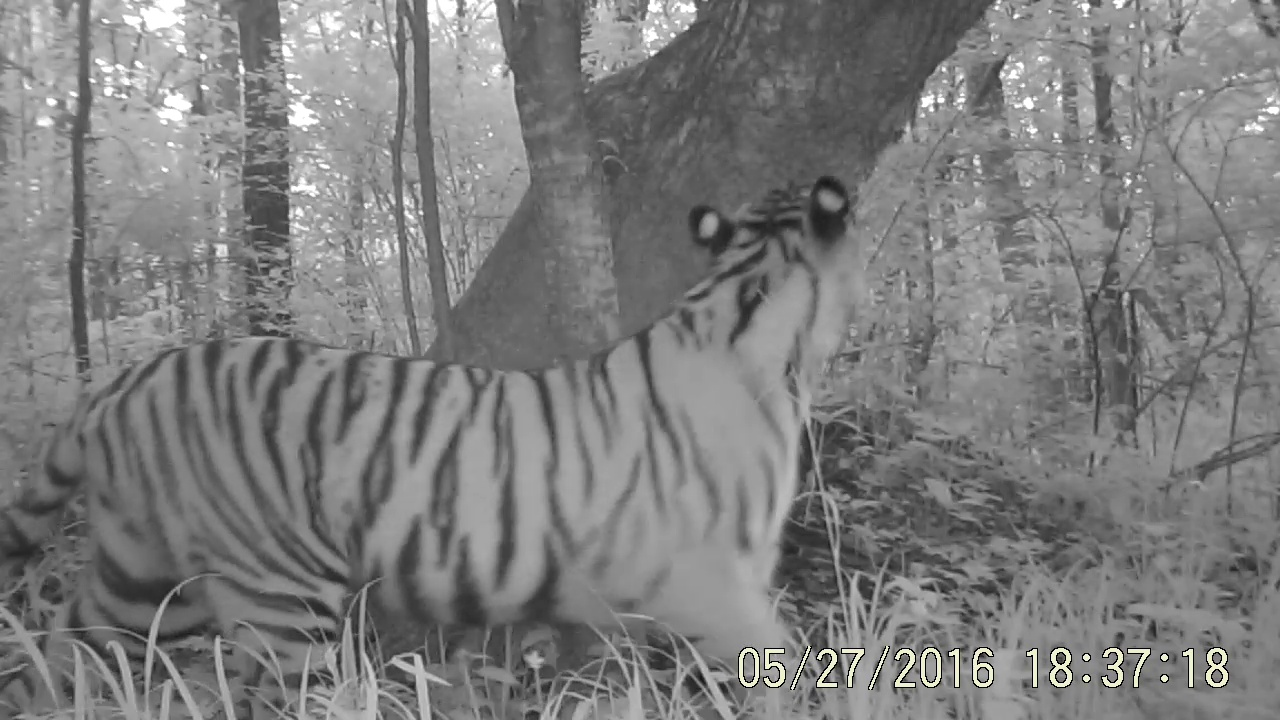Tiger: (12, 57, 937, 720)
